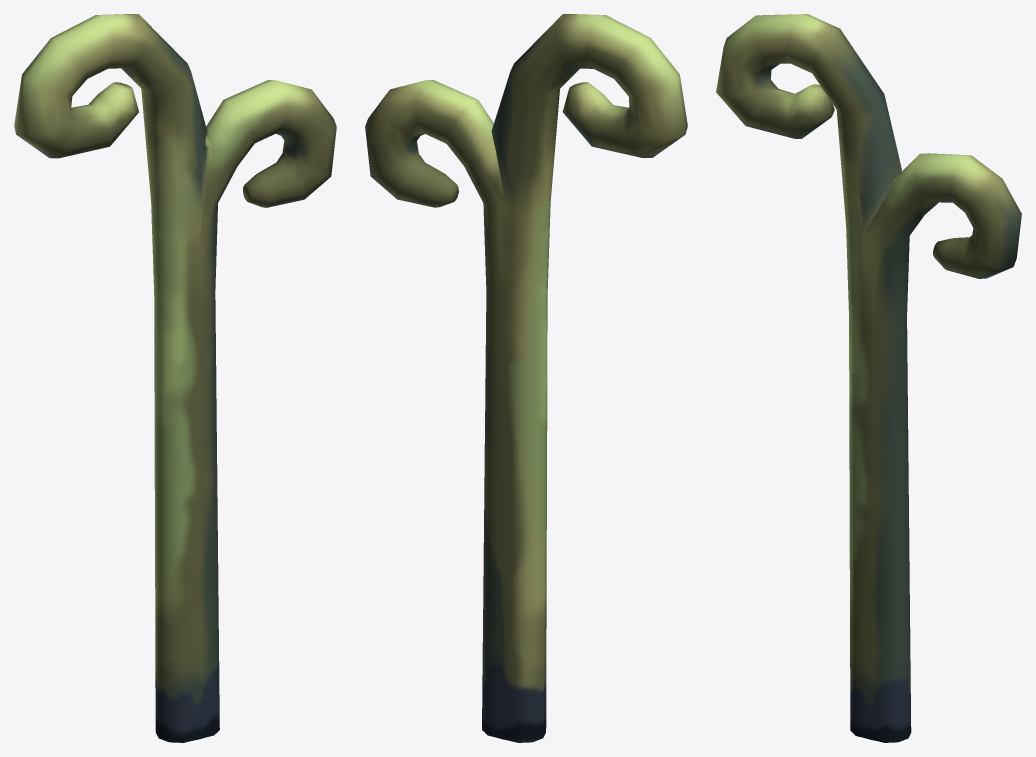
Rendered from Bracken_T_03.FBX.
The picture shows the model from 3 angles, left to right: view 1: azimuth 30°, elevation 25°; view 2: azimuth 150°, elevation 25°; view 3: azimuth 330°, elevation 25°; orthographic projection. The views are drawn at different scales.
Visible parts, largest first — view 1: Line005; view 2: Line005; view 3: Line005.
Part boxes in pixels (x1,y1,x2,y2): Line005: (14, 14, 336, 742); Line005: (365, 14, 687, 742); Line005: (716, 14, 1021, 742).
Size of the model in its own units: 42.27 by 93.67 by 6.6.
